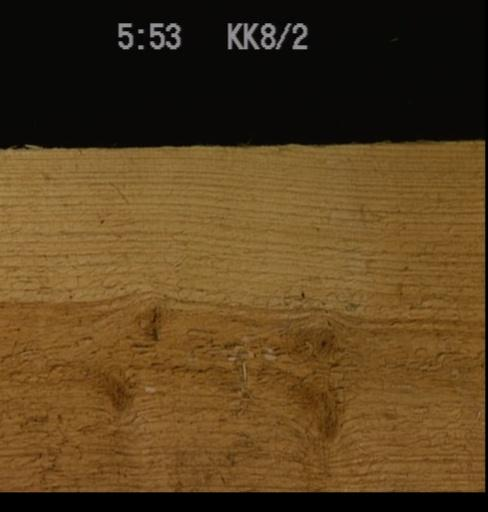sound_knot: (292, 372, 352, 441), (91, 367, 136, 411), (133, 303, 163, 347), (312, 323, 335, 356)
